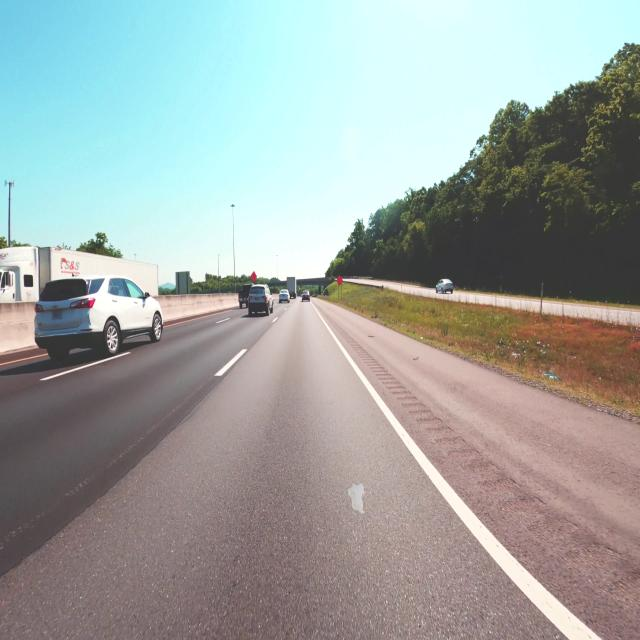car: (35, 276, 163, 360), (248, 285, 273, 316), (238, 284, 252, 309), (436, 279, 453, 293), (279, 289, 290, 303), (302, 290, 310, 301)
